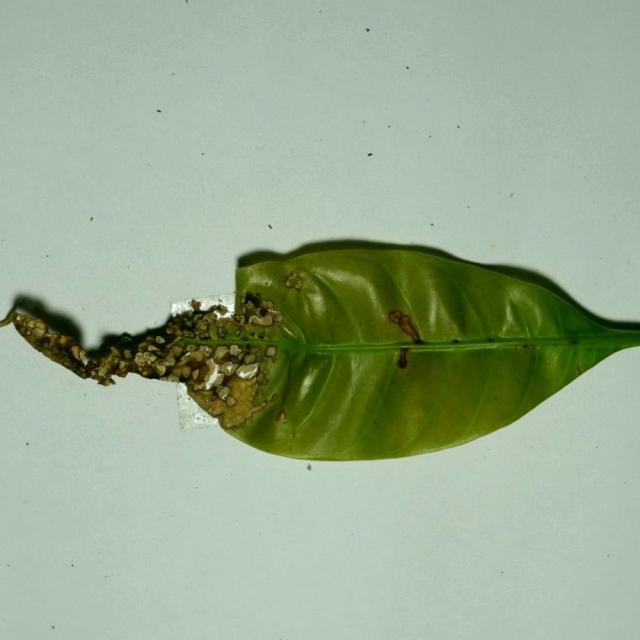Anthracnose: (209, 368, 263, 424), (193, 348, 252, 390), (191, 351, 241, 392), (37, 338, 86, 375), (200, 363, 223, 389), (258, 305, 284, 326), (210, 346, 237, 366), (284, 271, 304, 291), (135, 351, 157, 367), (154, 356, 175, 372), (193, 364, 210, 383), (186, 349, 205, 363), (193, 379, 213, 391), (248, 315, 265, 326), (211, 404, 226, 416), (156, 363, 167, 375)
Mango: (7, 239, 639, 467)
